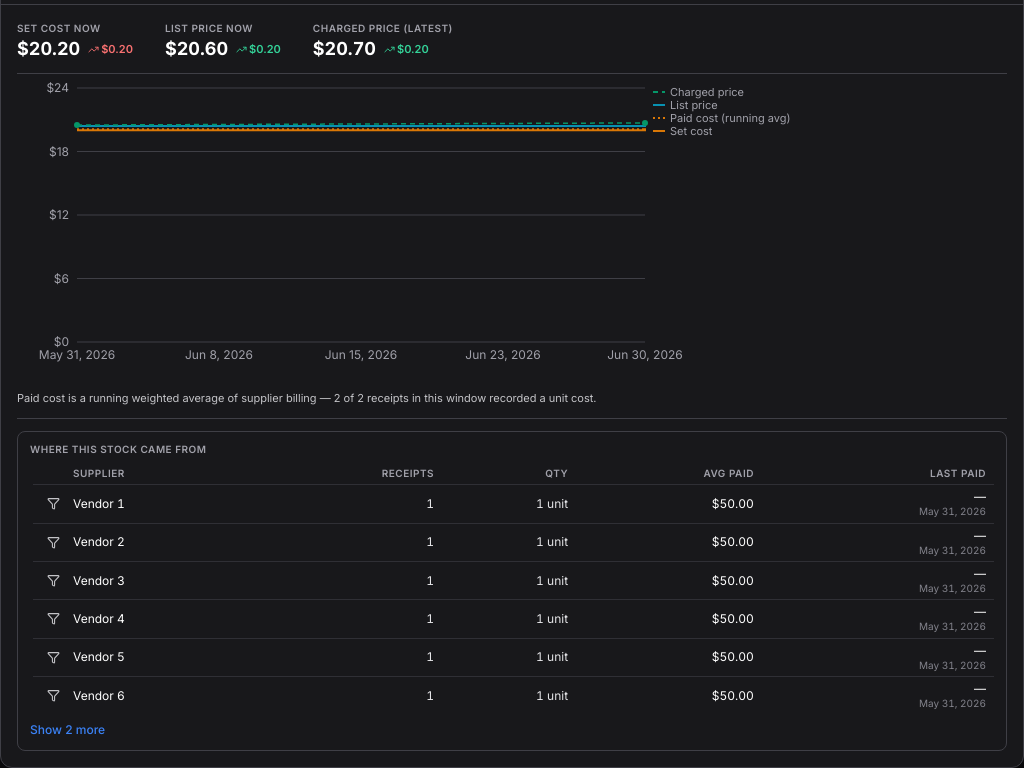
CostPriceTrendChart › supplier origin › expands the rollup to reveal every vendor past the cap
(page scrolled)
Click the button "Show 2 more" at (68, 730), box [30, 722, 105, 738]
(page scrolled)
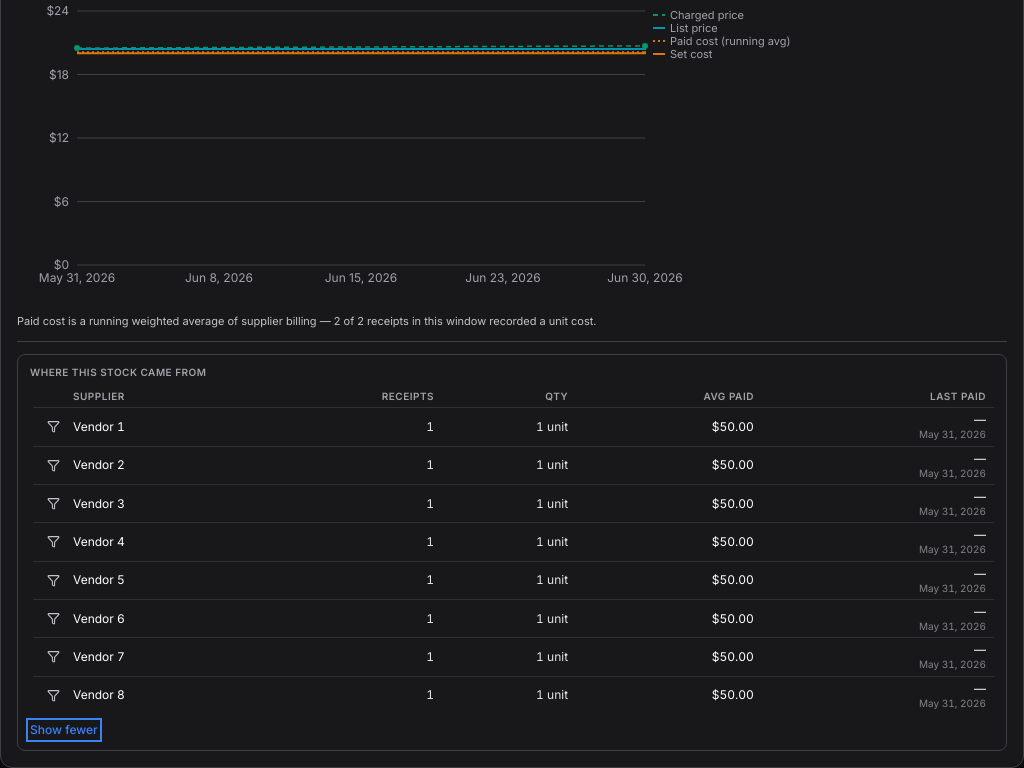
Now the text "Vendor 8" is shown, box [73, 687, 125, 703]
Now the button "Show fewer" is shown, box [30, 722, 98, 738]
